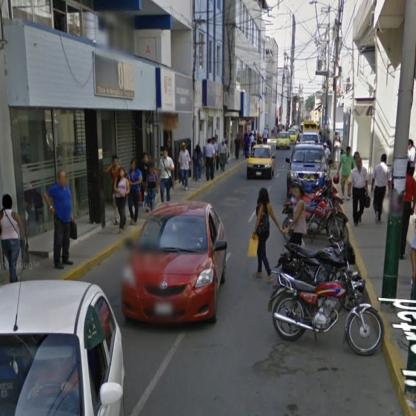Moto: (267, 240, 386, 359)
Peaton: (43, 169, 79, 270), (250, 191, 290, 281), (349, 156, 371, 226), (289, 187, 308, 266), (116, 170, 131, 234), (158, 150, 175, 204), (205, 138, 216, 180)
Pista: (3, 136, 401, 414)
Vehiculo: (120, 199, 229, 330), (247, 142, 275, 180)
